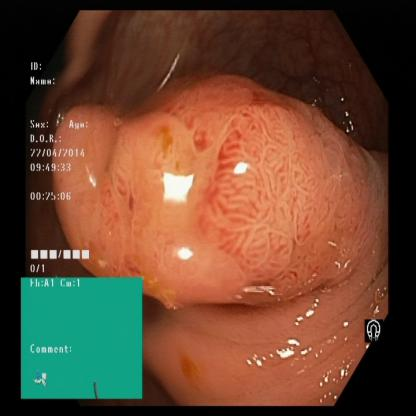Labels: (25, 60, 112, 276), (20, 278, 145, 402), (358, 315, 388, 349)
Polyps: (224, 87, 390, 308), (55, 96, 224, 296)
